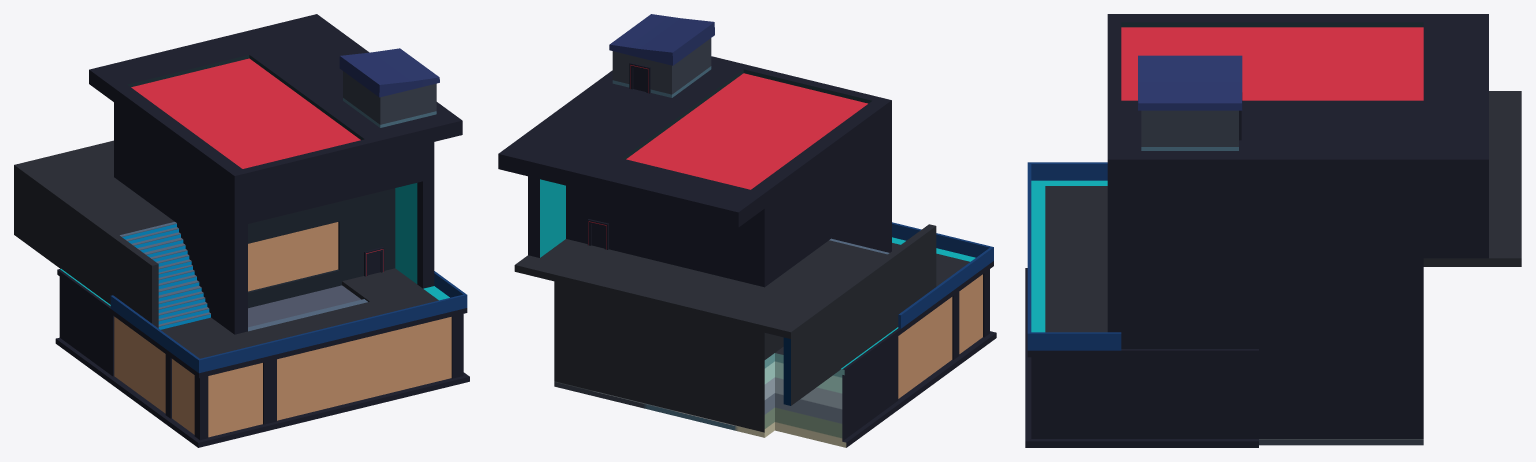
File: Building_Villa01.fbx
3 views of the same model, side by side, from view 1: azimuth 30°, elevation 25°; view 2: azimuth 150°, elevation 25°; view 3: azimuth 270°, elevation 25° (orthographic). The views are drawn at different scales.
Parts seen in each view (by area): view 1: Cube.418; view 2: Cube.418; view 3: Cube.418.
Boxes of the visible parts, x1=… form: Cube.418: x1=14, y1=14, x2=469, y2=447; Cube.418: x1=498, y1=14, x2=996, y2=447; Cube.418: x1=1025, y1=14, x2=1521, y2=447.
Bounding box in the file's own units: 1956 × 1748 × 2173.
